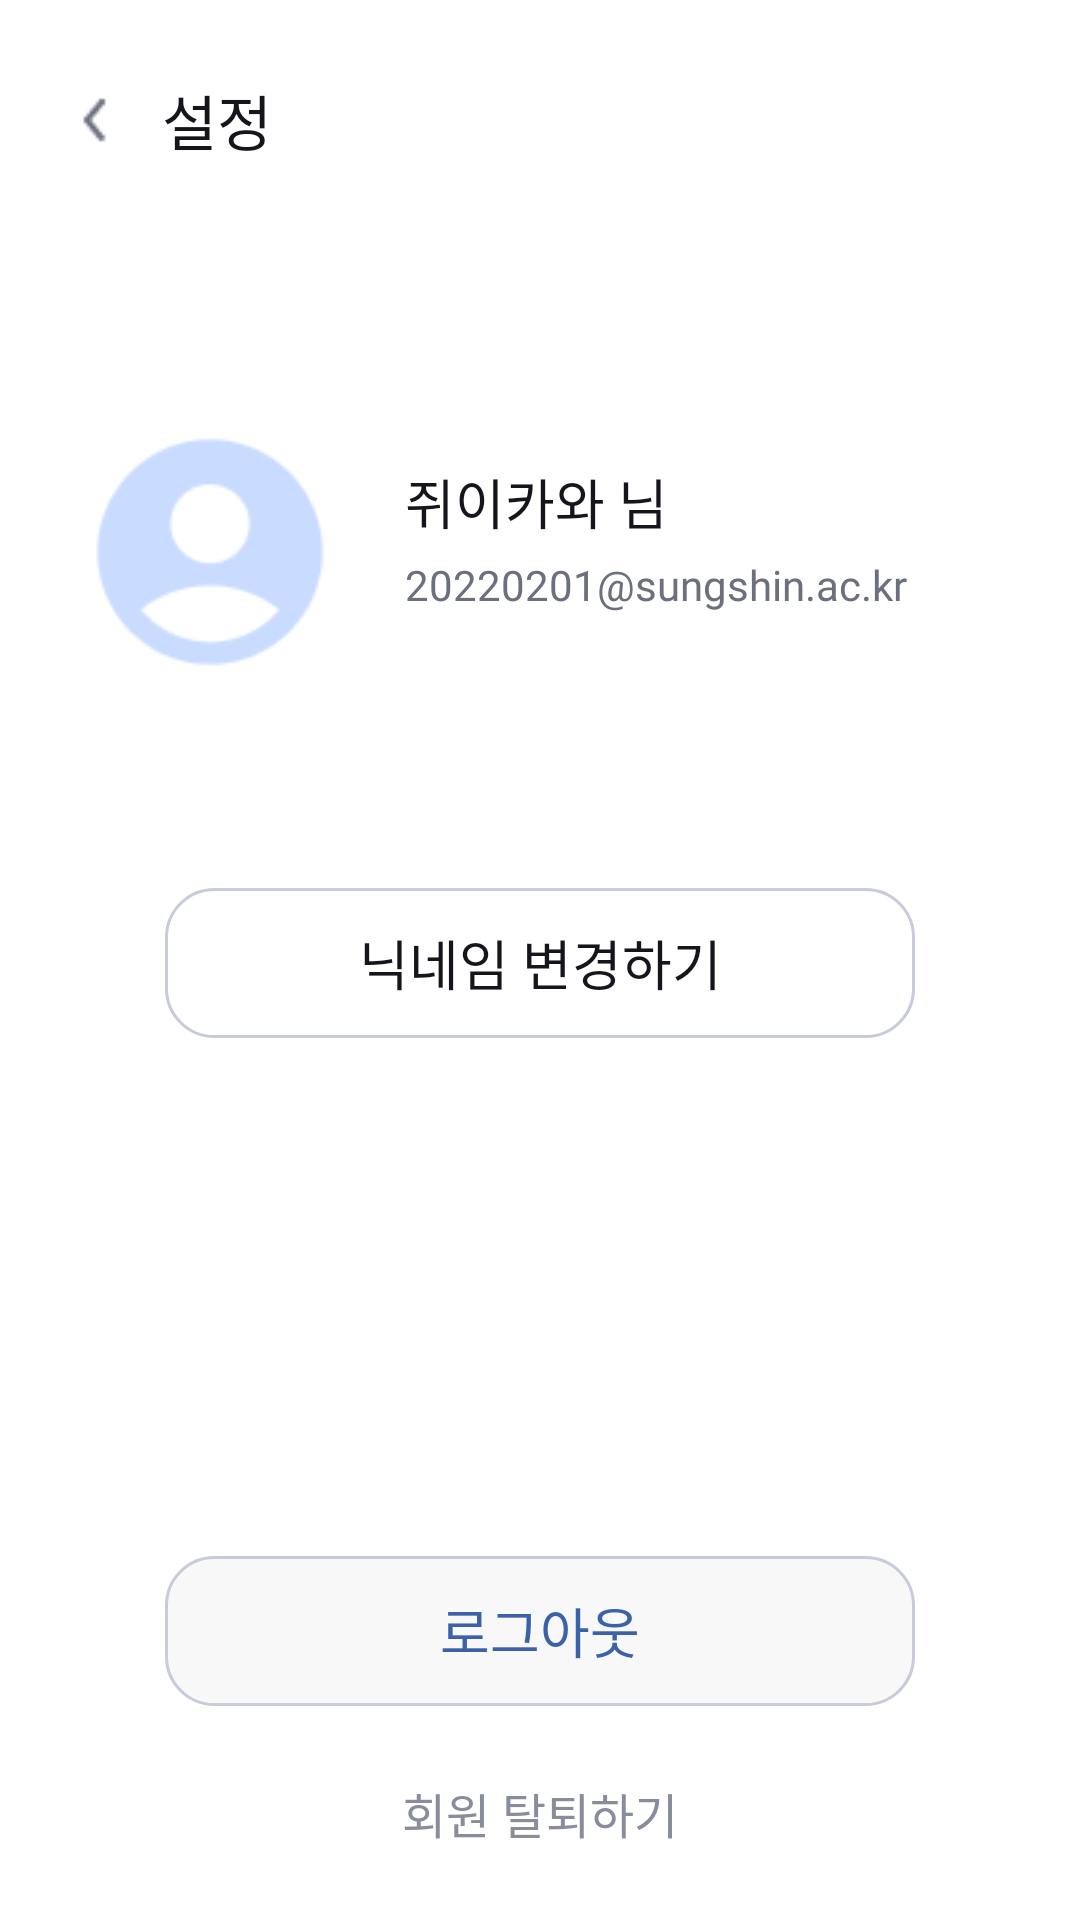

Where icons sit on this 1080w x 1920h app screen, as (x1, y1, x2, y2):
프로필 이미지: (97, 439, 323, 665)
